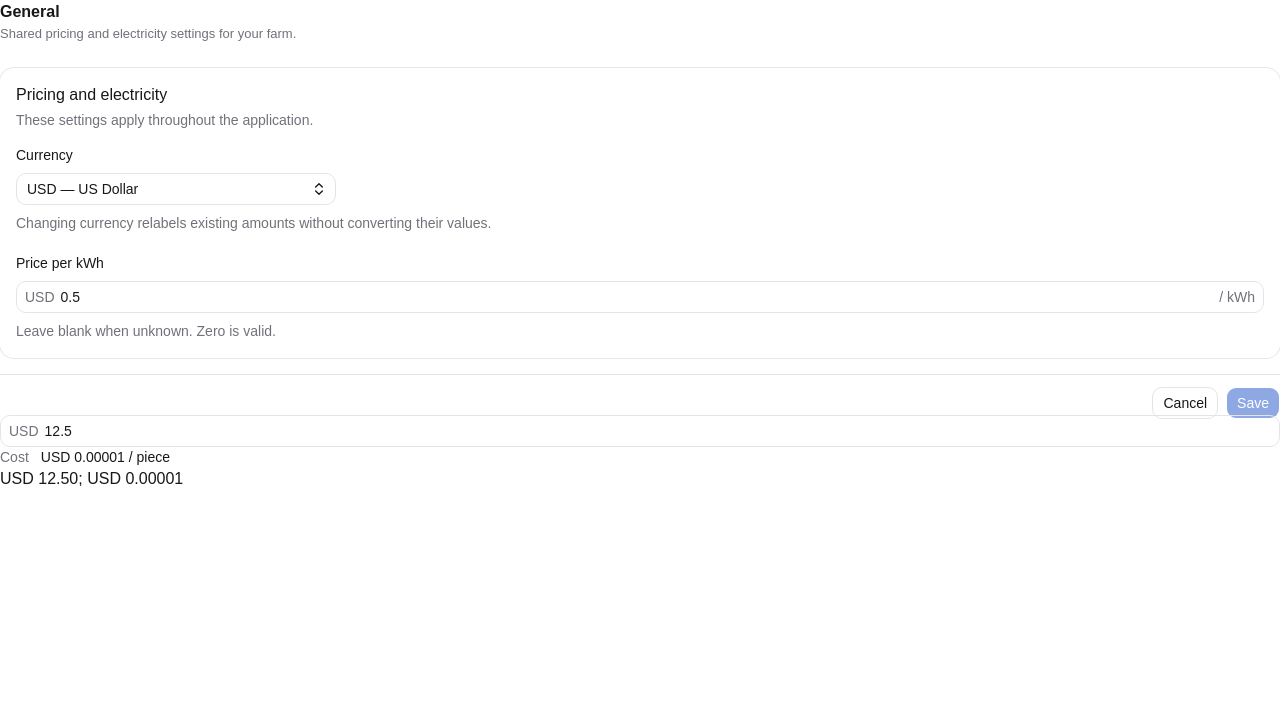
searches and selects currency by keyboard, saves zero, and updates existing displays
Expected: the text named "Example prices" reads "USD 12.50; USD 0.00001", [0, 470, 183, 487]
Click the dropdown named "Currency": (83, 189) [16, 173, 336, 205]
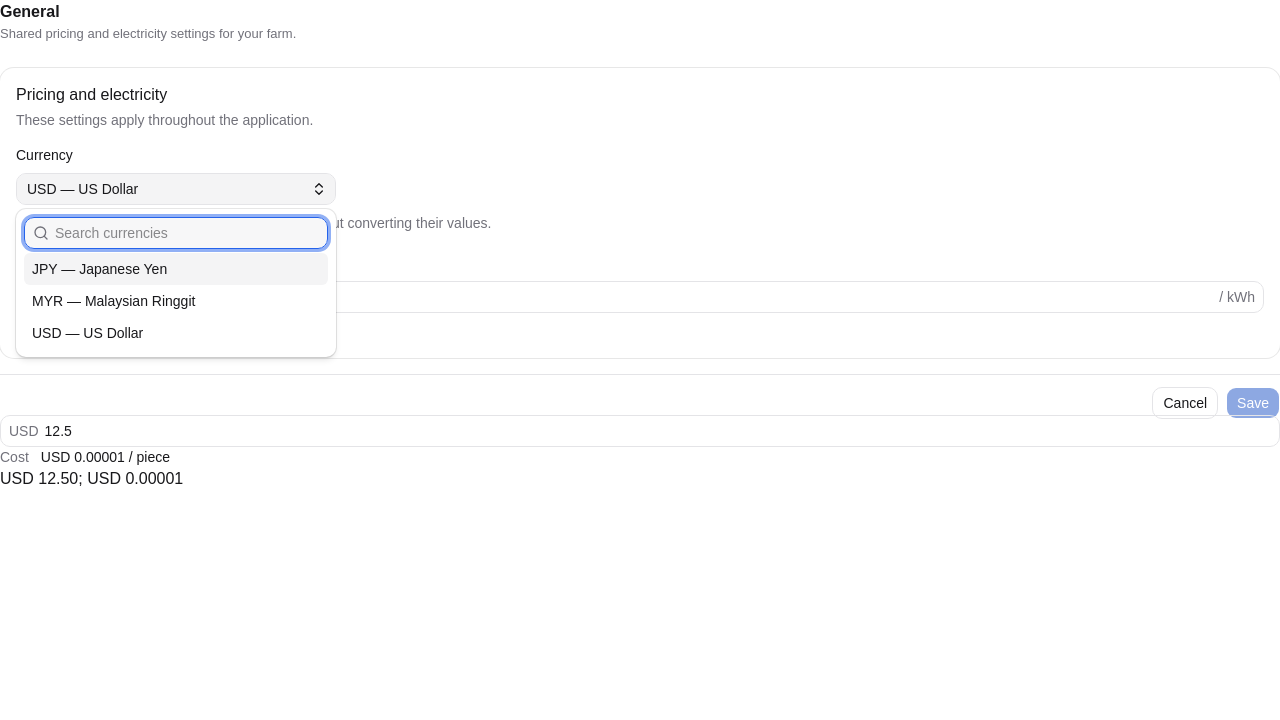
In the dropdown with placeholder "Search currencies": (188, 233) [49, 223, 327, 243], type "ringgit"
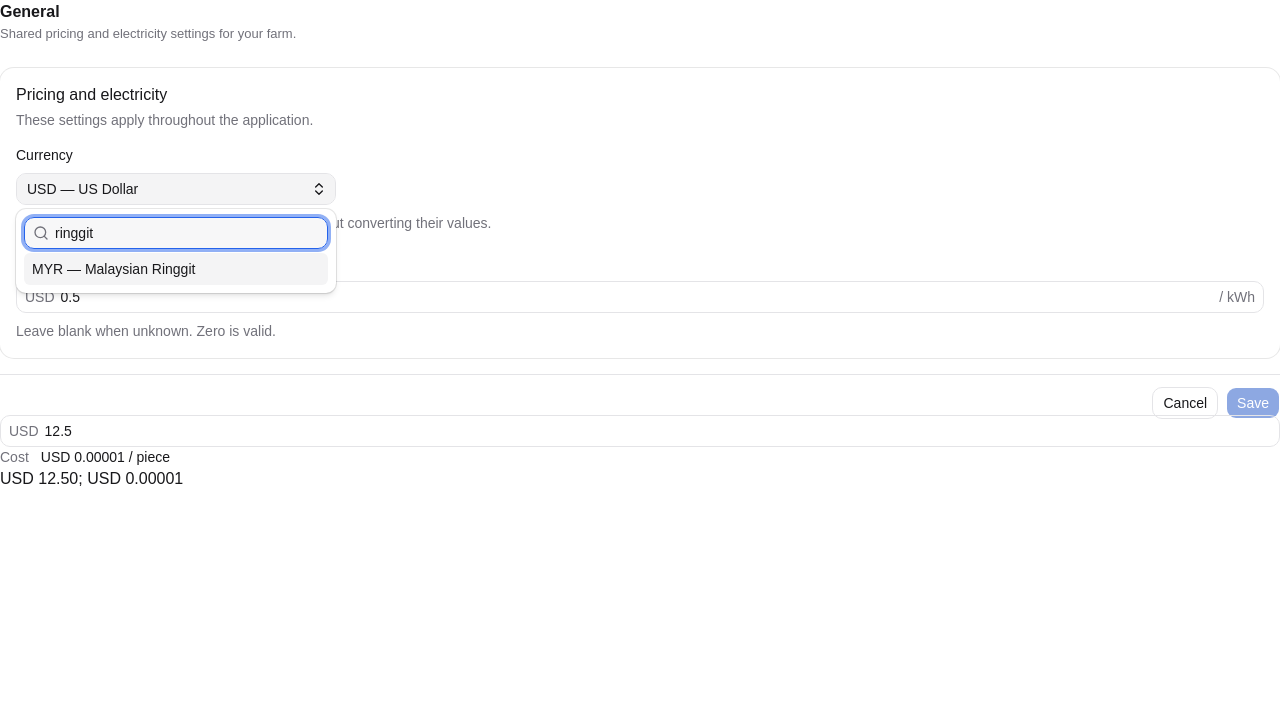
Press Arrowdown Enter
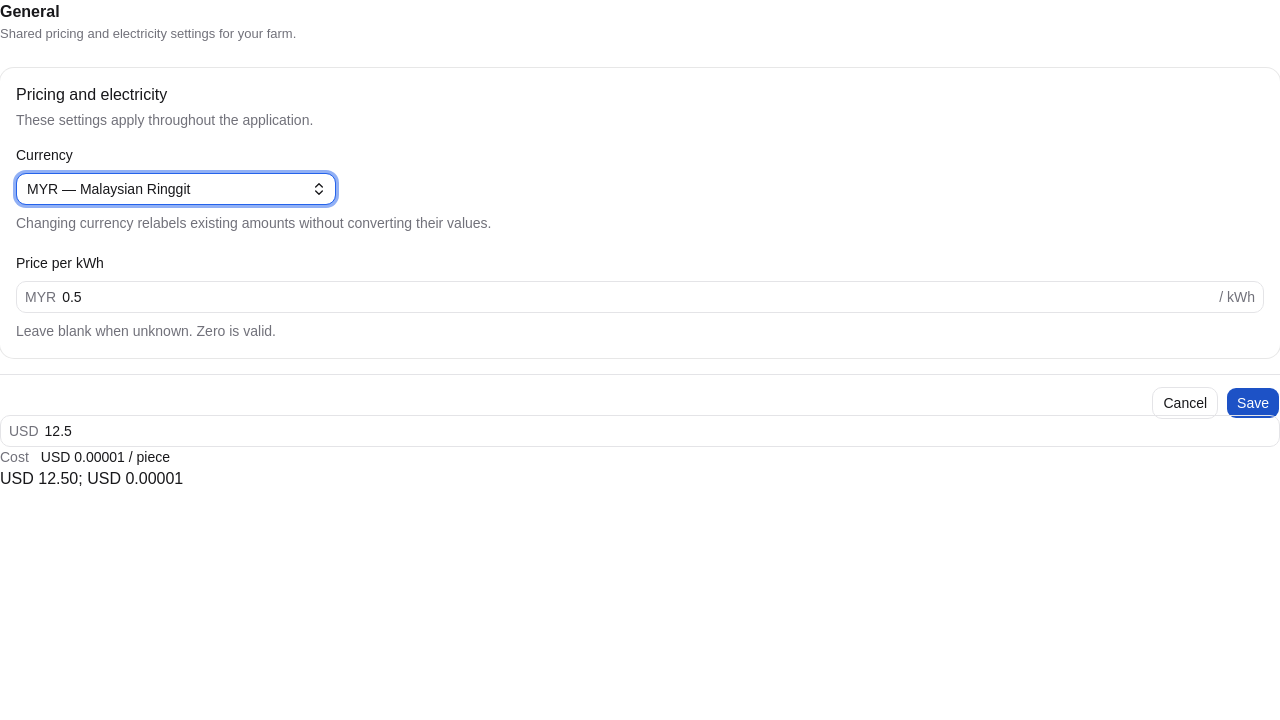
Expected: the dropdown named "Currency" shows "MYR", [16, 173, 336, 205]
Replace the text in the field labelled "Price per kWh" with "0": (638, 297) [56, 281, 1219, 313]
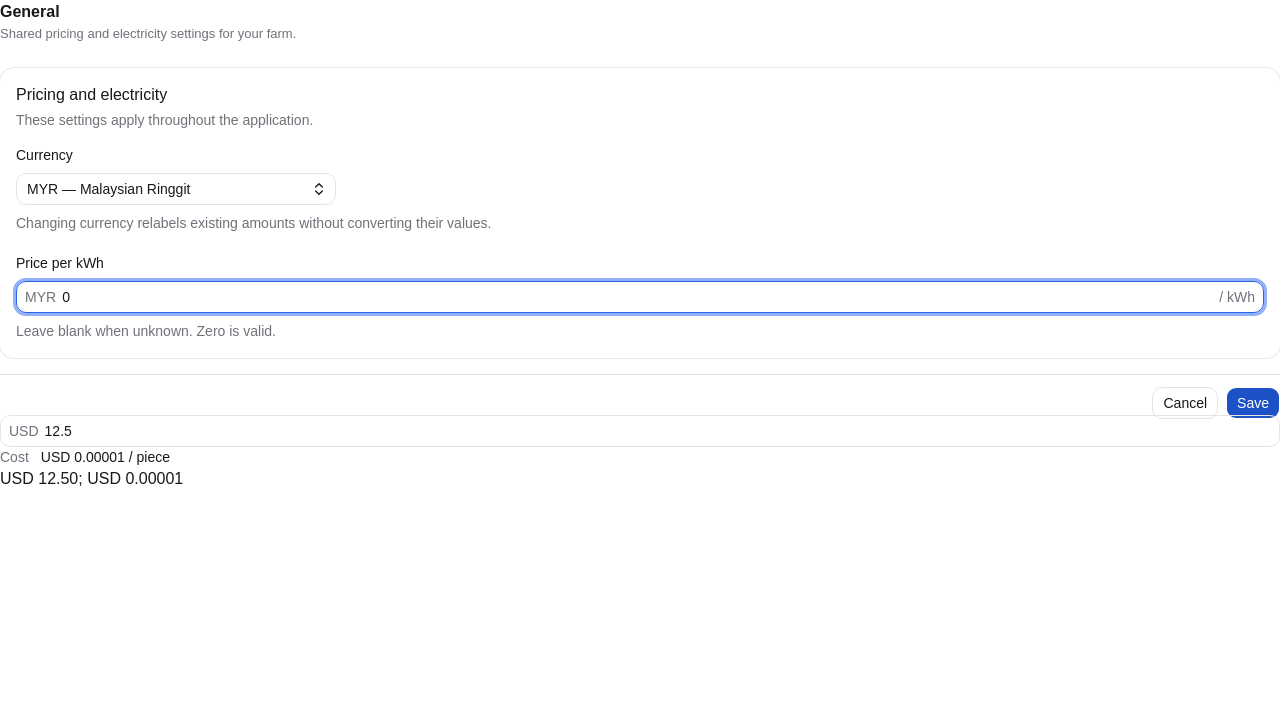
Click the button "Save": (1253, 403) [1226, 387, 1279, 419]
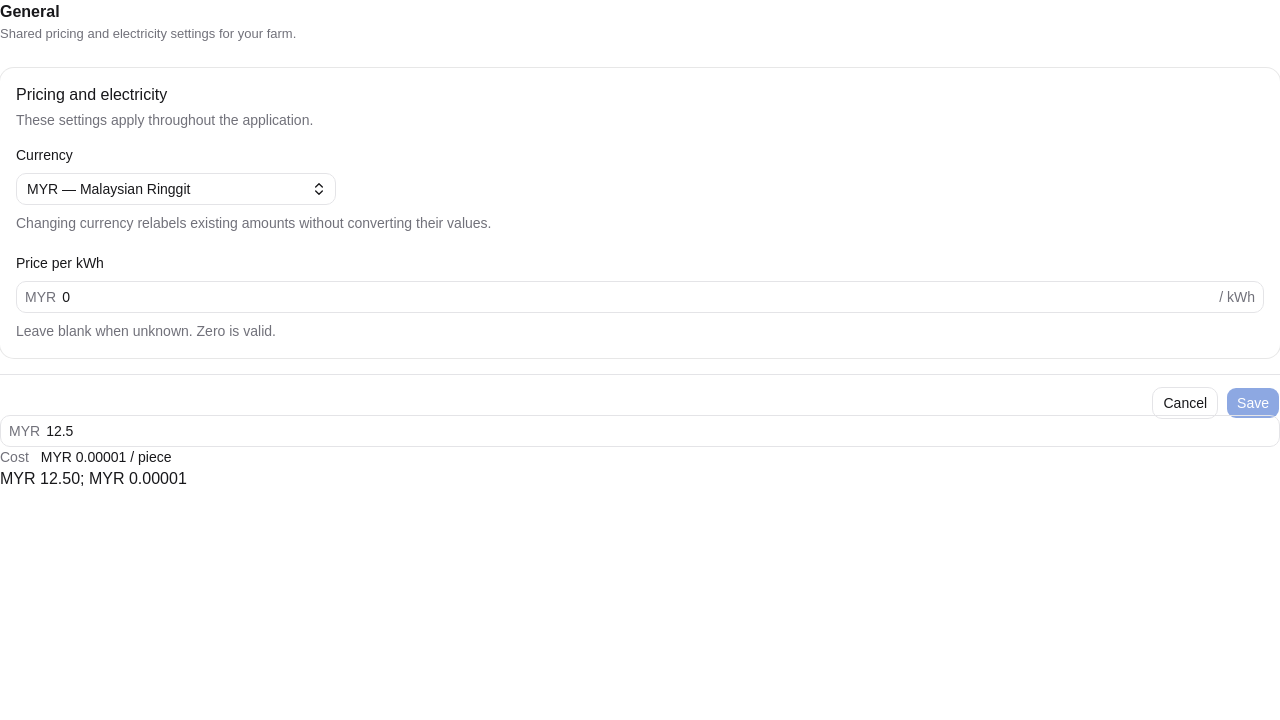
Expected: the text named "Example prices" reads "MYR 12.50; MYR 0.00001", [0, 470, 187, 487]
Expected: the button "Save" is disabled, [1226, 387, 1279, 419]
Expected: the text "MYR 0.00001 / piece" is shown, [41, 447, 172, 467]
